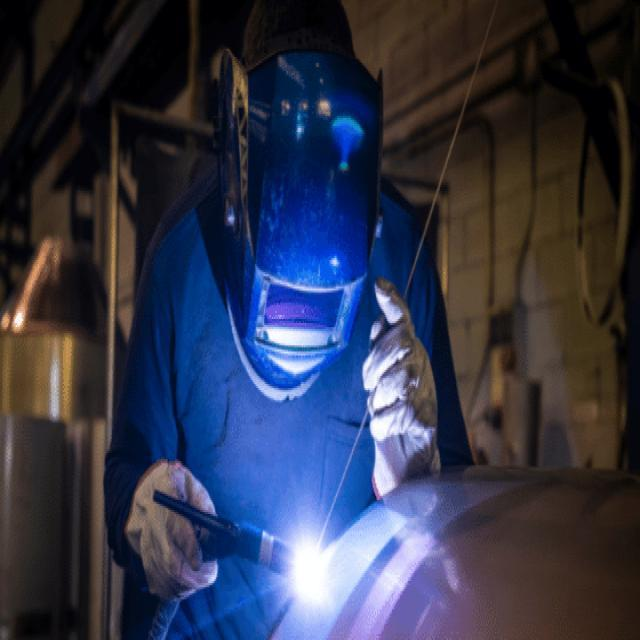with_helmet: (198, 52, 380, 398)
